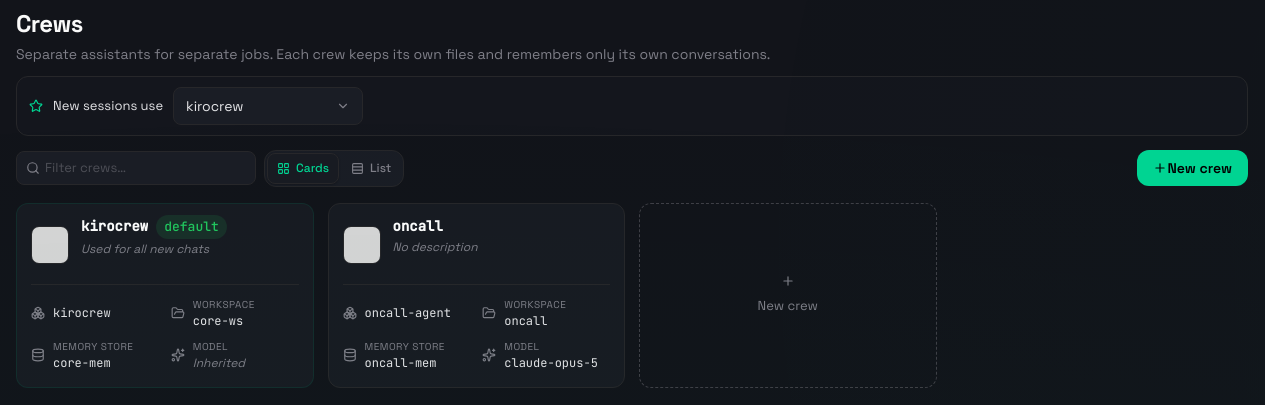
Test: crew roster — filtering › narrows the visible cards
This screenshot has width=1265, height=405.
Expected: the number of buttons with test id "crew-card" is 2, [16,203,314,388]; [328,203,625,388]
In the field labelled "Filter crews…": (136, 168) [16,151,256,185], type "oncall"
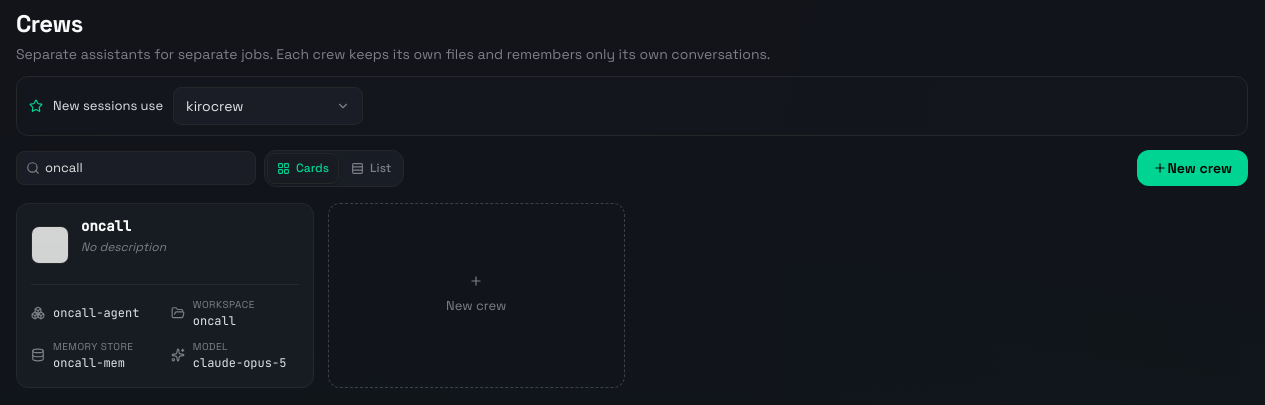
Now the number of buttons with test id "crew-card" is 1, box [16,203,314,388]
